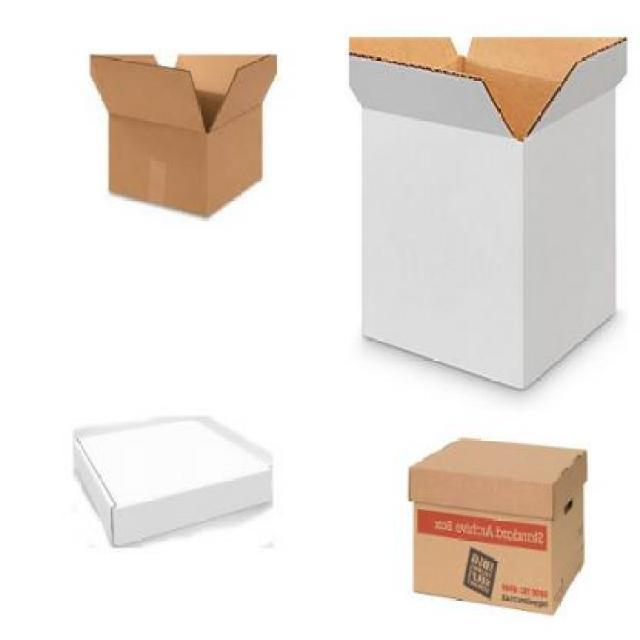box: (360, 48, 616, 386), (410, 437, 586, 613), (74, 420, 271, 544), (106, 69, 260, 216)
